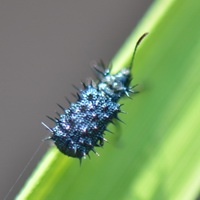insect: (41, 32, 147, 162), (41, 33, 147, 162)
